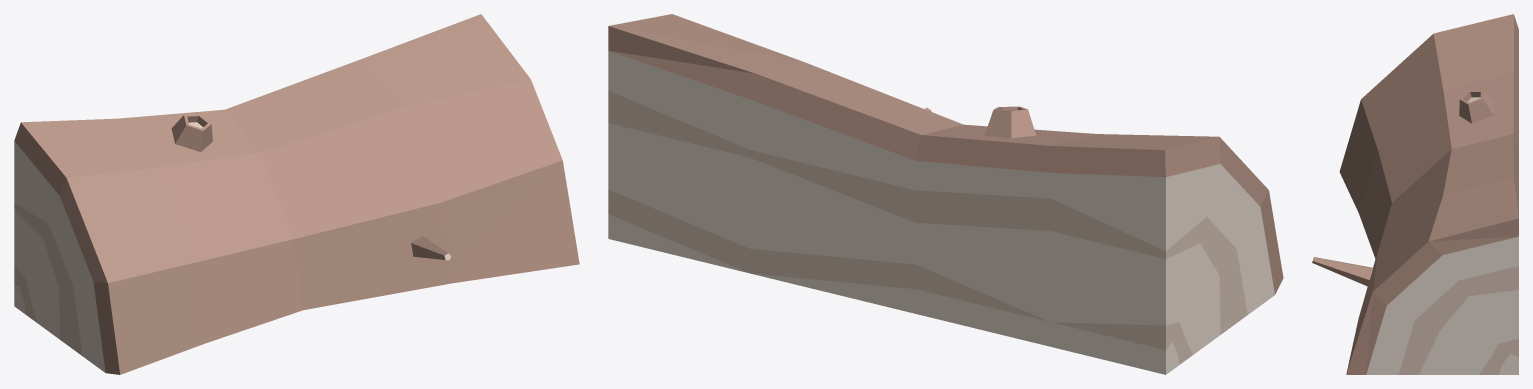
The model's file is Wood.fbx.
3 views of the same model, side by side, from view 1: azimuth 30°, elevation 25°; view 2: azimuth 150°, elevation 25°; view 3: azimuth 270°, elevation 25° (orthographic). The views are drawn at different scales.
Visible parts, largest first — view 1: Wood; view 2: Wood; view 3: Wood.
Part boxes in pixels (bbox=[...]): Wood: bbox=[14, 14, 579, 374]; Wood: bbox=[608, 14, 1283, 374]; Wood: bbox=[1312, 14, 1518, 374].
Bounding box in the file's own units: 0.236 × 0.0895 × 0.1032.
